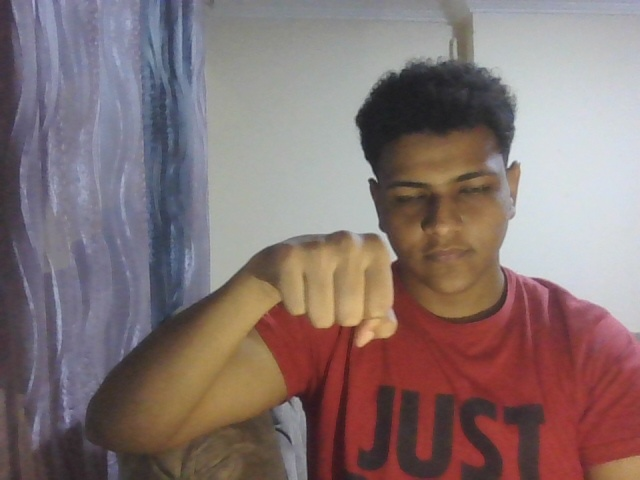yes: (256, 198, 402, 371)
